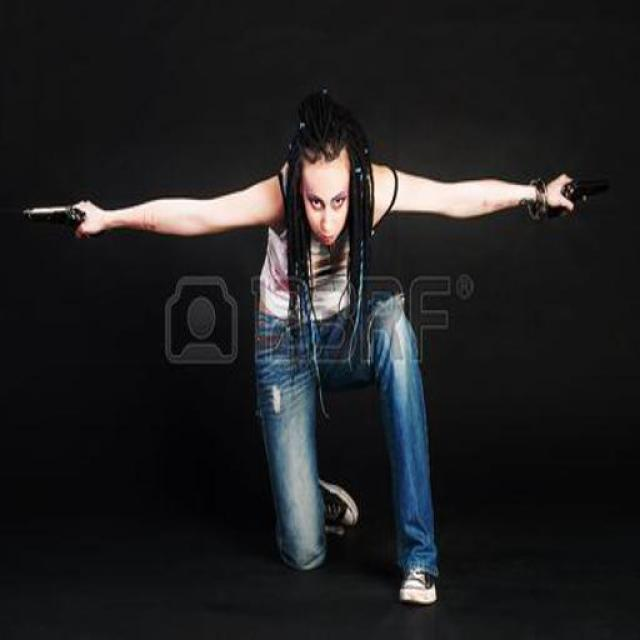pistol: (543, 159, 624, 210), (24, 199, 95, 240)
